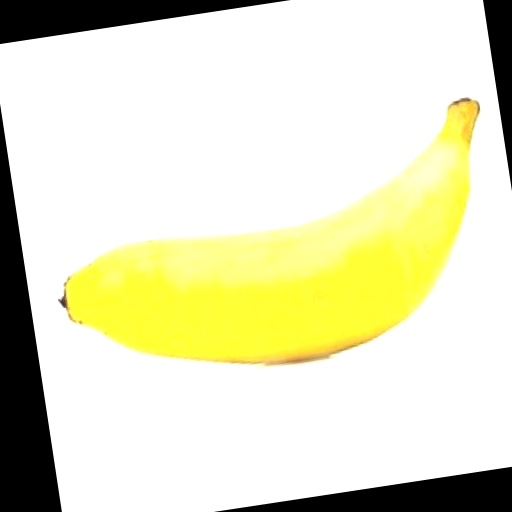fruit: (61, 98, 479, 363)
